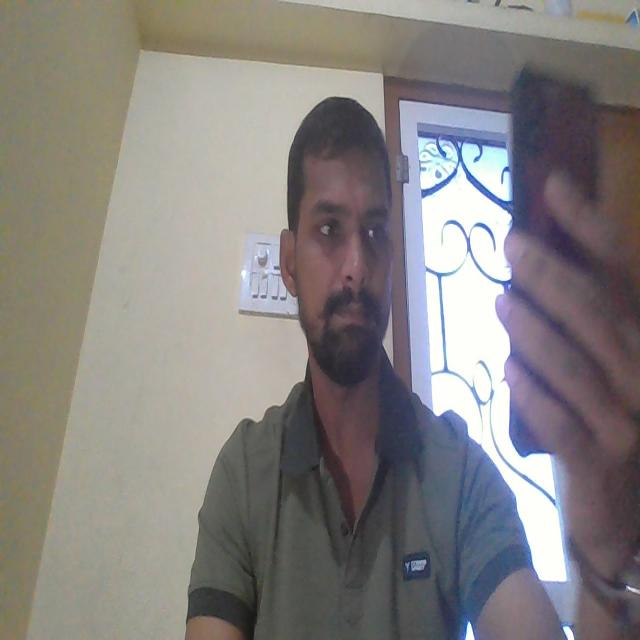phone: (514, 66, 603, 208)
